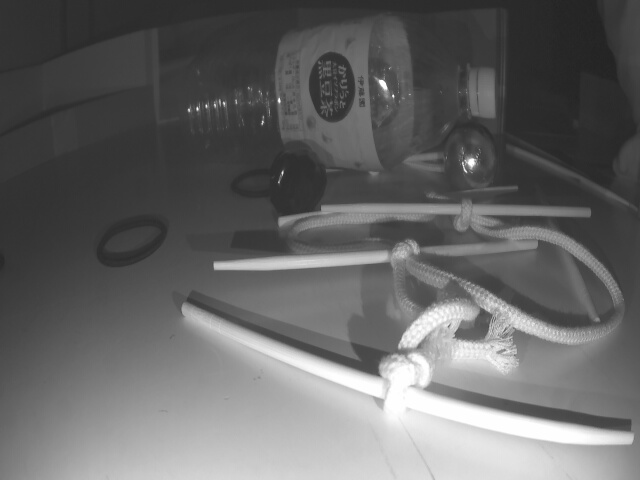Dead: (272, 147, 327, 213)
Live: (442, 124, 496, 190)
Point: (0, 86, 153, 192)
